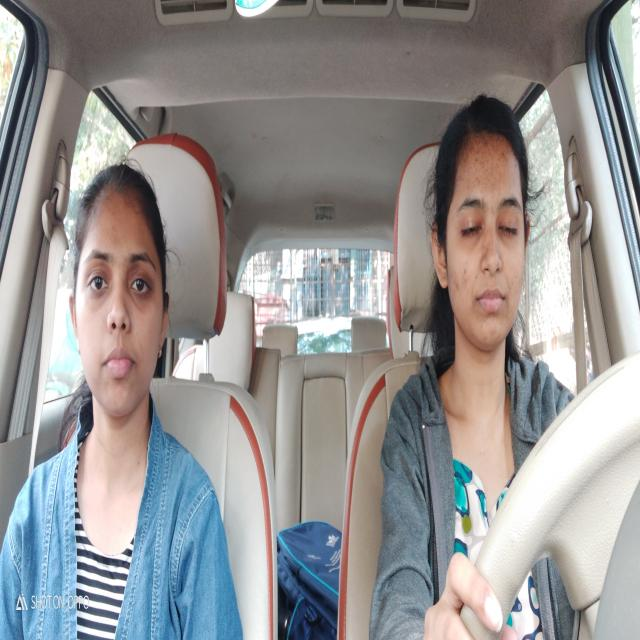drowsy: (428, 88, 534, 393)
person: (68, 152, 174, 454)
